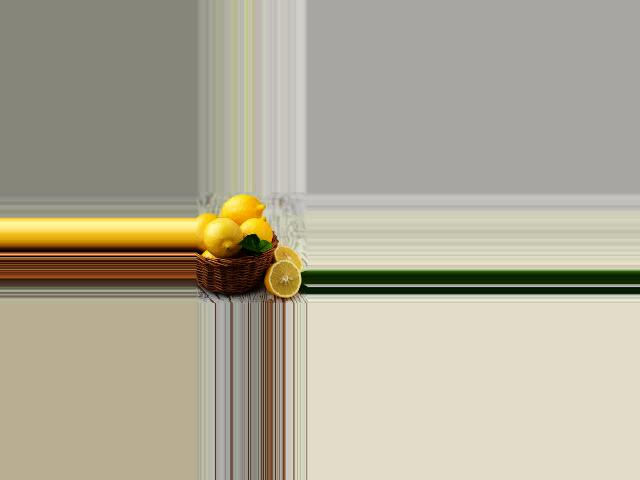lemon: (235, 216, 275, 254)
